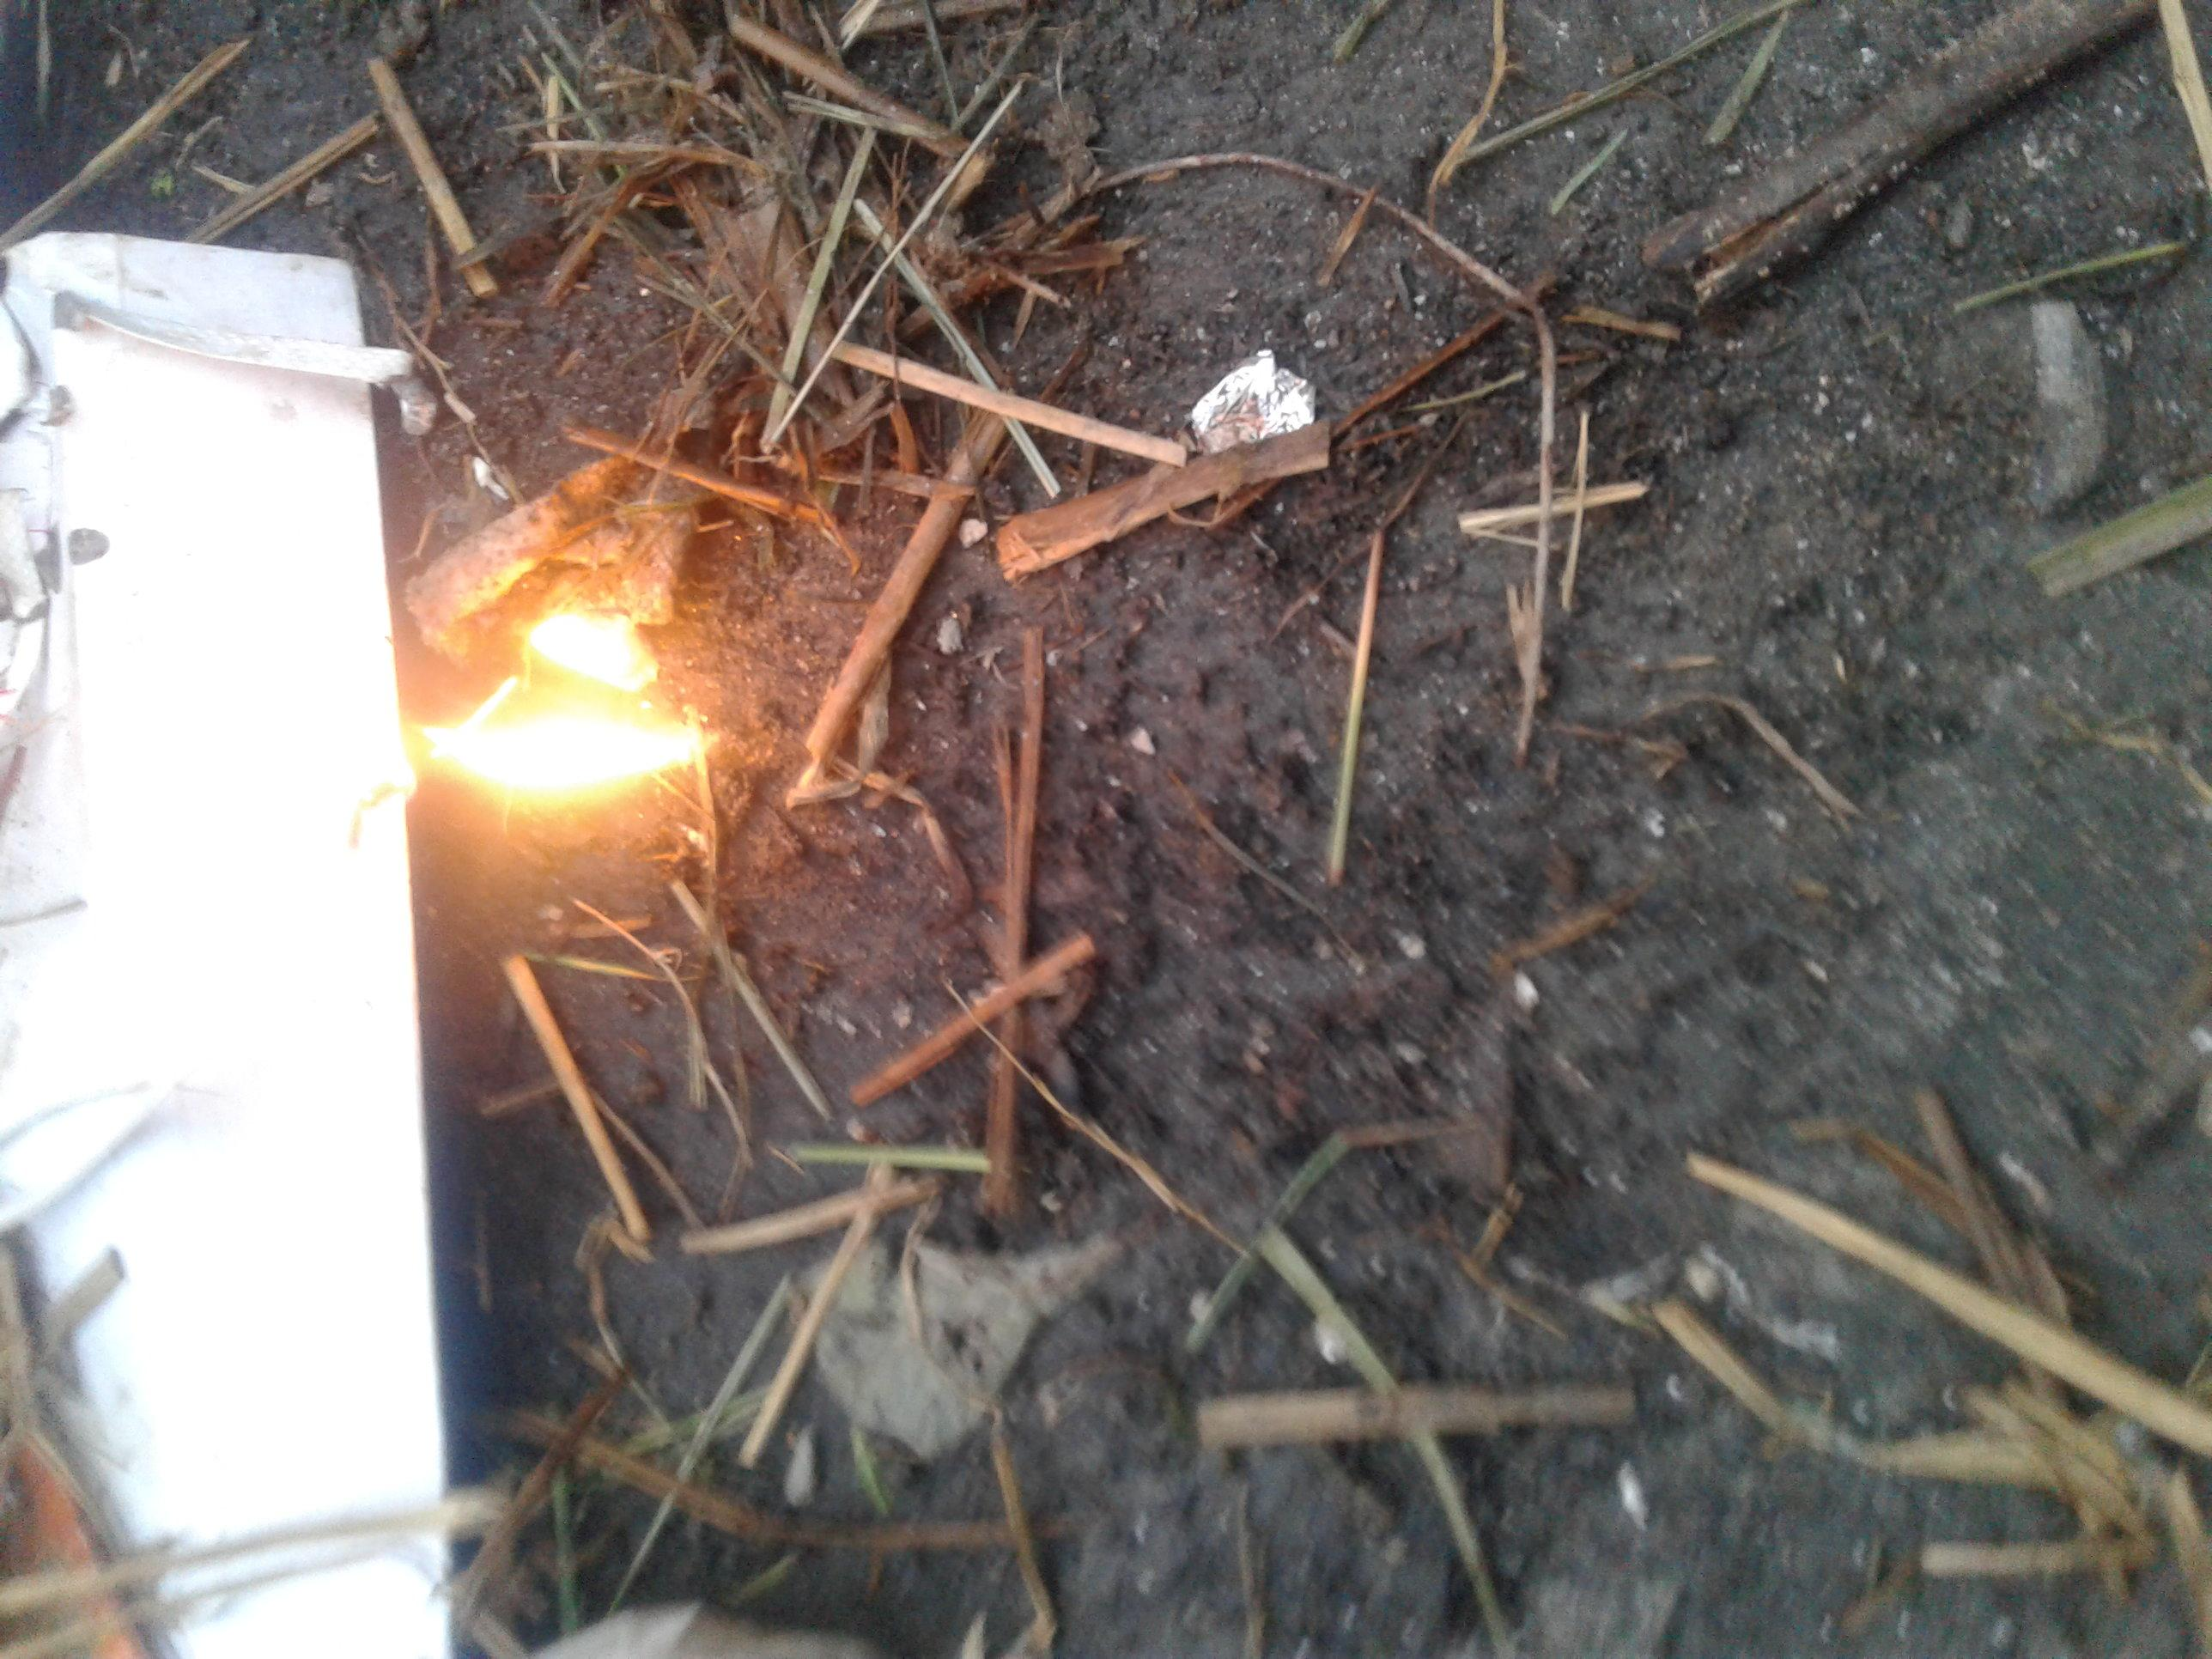Fire: (1049, 319, 1470, 535)
